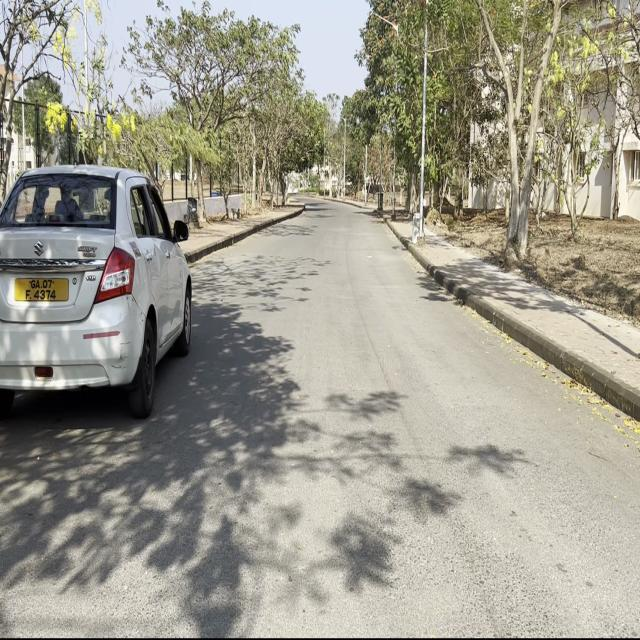Object: (2, 138, 195, 432)
Road: (3, 200, 636, 628)
